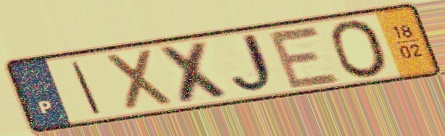E: (264, 24, 346, 91)
I: (68, 60, 105, 116)
J: (229, 30, 283, 97)
O: (327, 18, 394, 80)
X: (154, 38, 237, 106), (102, 46, 179, 114)
